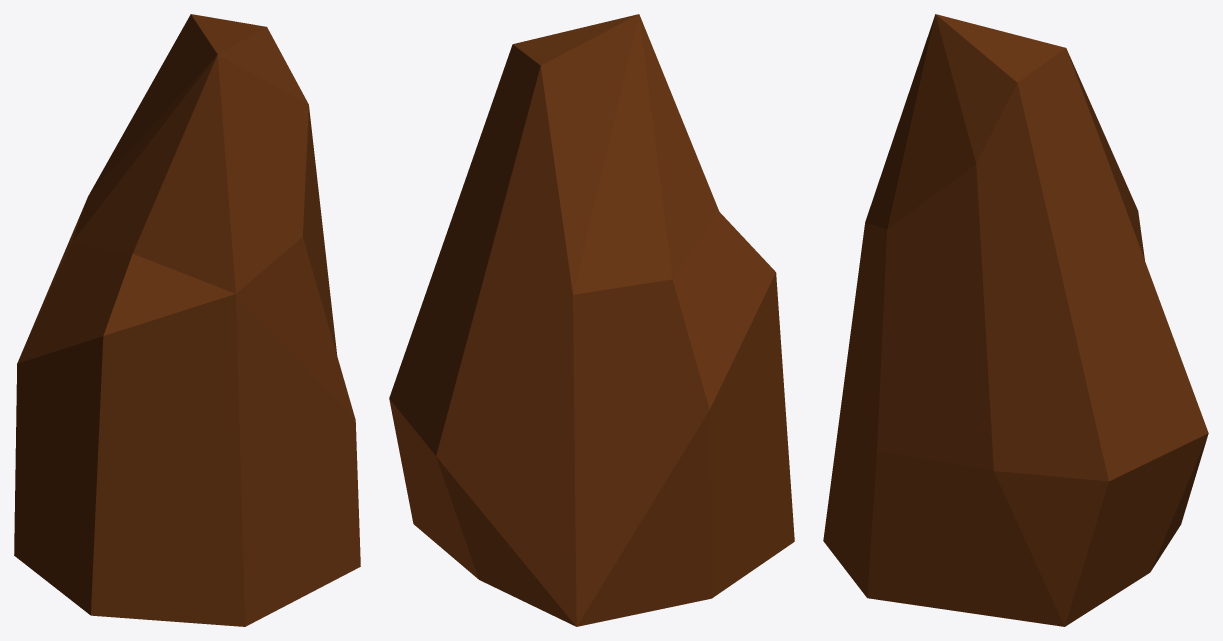
The model's file is roca_4.FBX.
The picture shows the model from 3 angles, left to right: view 1: azimuth 30°, elevation 25°; view 2: azimuth 150°, elevation 25°; view 3: azimuth 270°, elevation 25°; orthographic projection. The views are drawn at different scales.
Visible parts, largest first — view 1: Sphere002; view 2: Sphere002; view 3: Sphere002.
Part boxes in pixels (left/top/right/bottom): Sphere002: left=14, top=14, right=360, bottom=626; Sphere002: left=389, top=14, right=794, bottom=626; Sphere002: left=823, top=14, right=1208, bottom=626.
Size of the model in its own units: 1.97 by 3.19 by 2.05.
